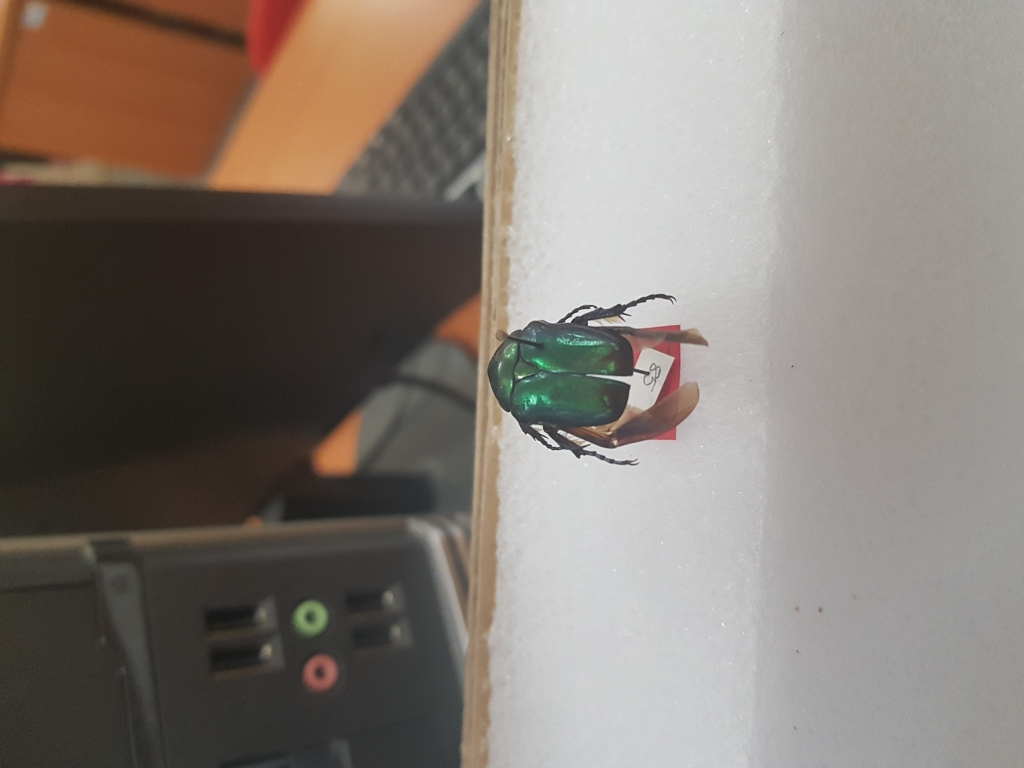Protaetia_besucheti: (481, 290, 725, 474)
